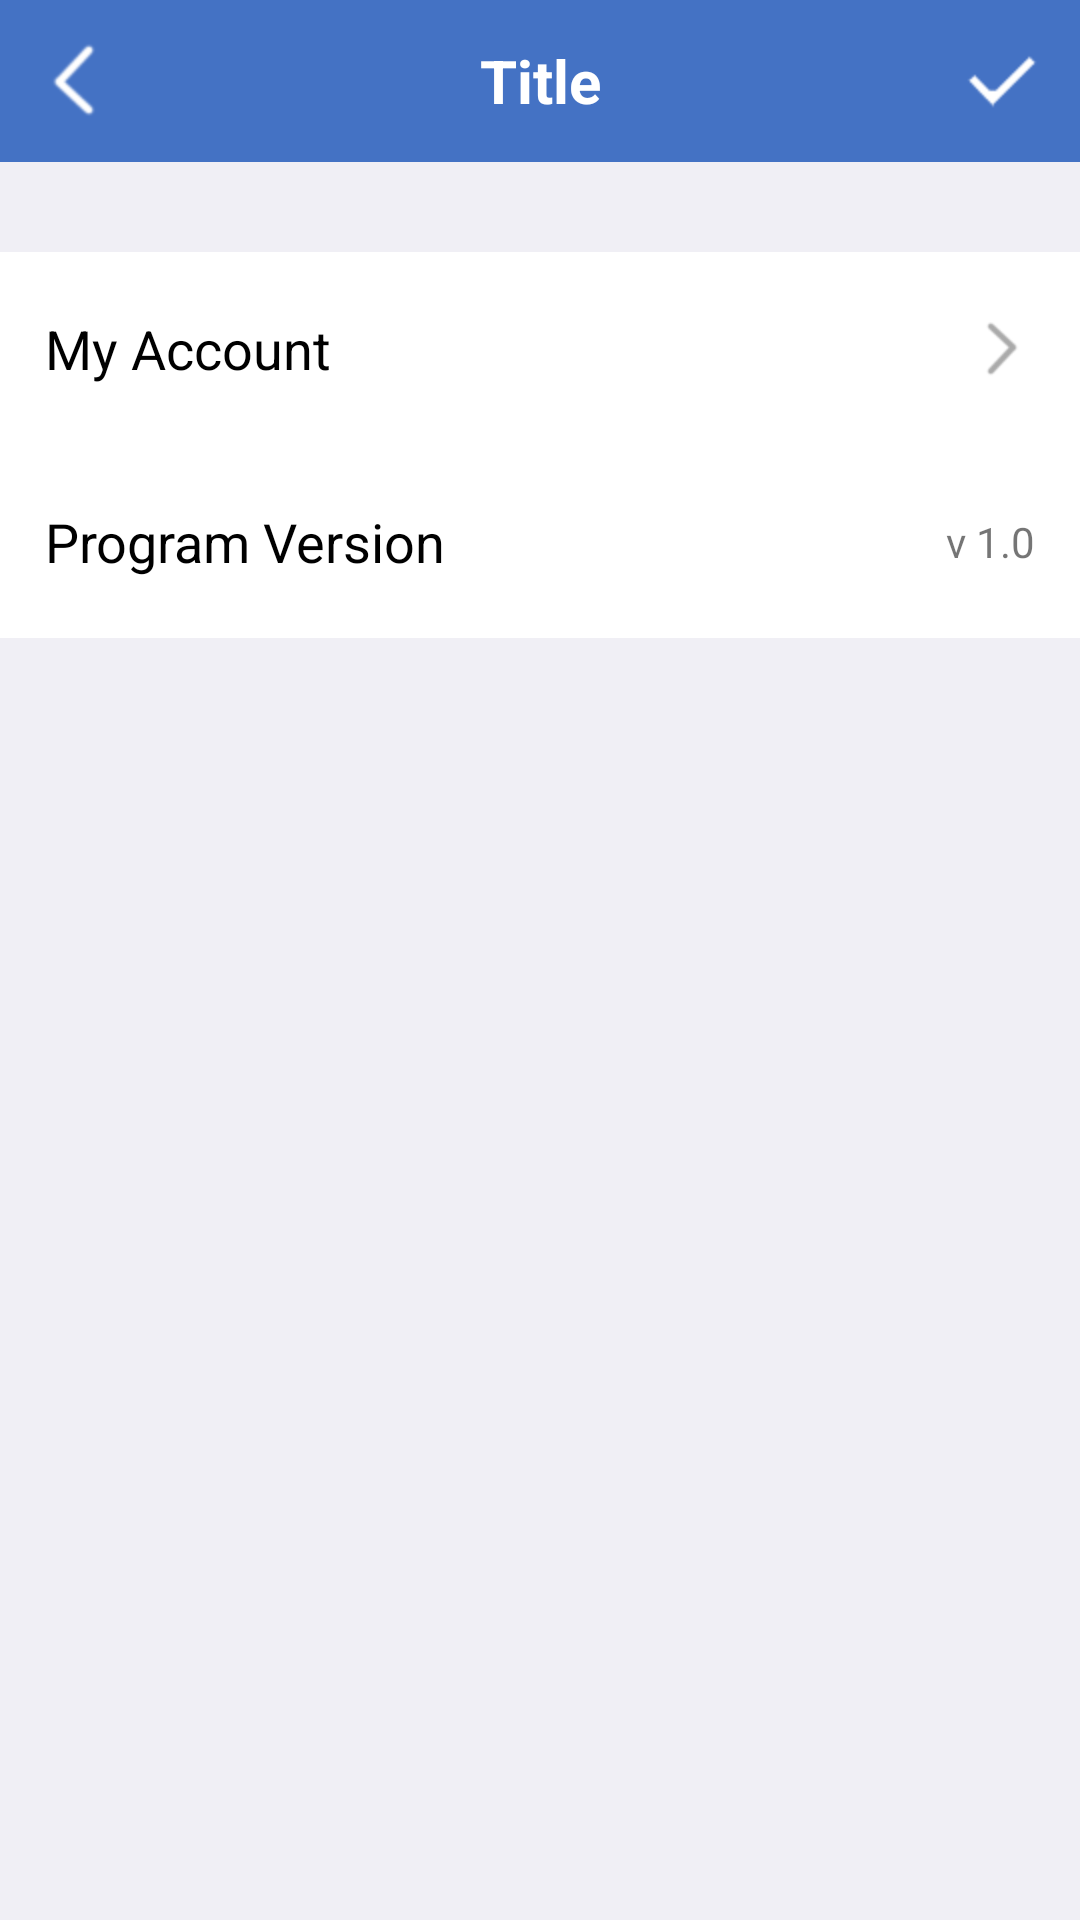

Screen size 1080px×1920px. Icon name, then its center in pixels as (x,y):
checkmark: (1002,81)
